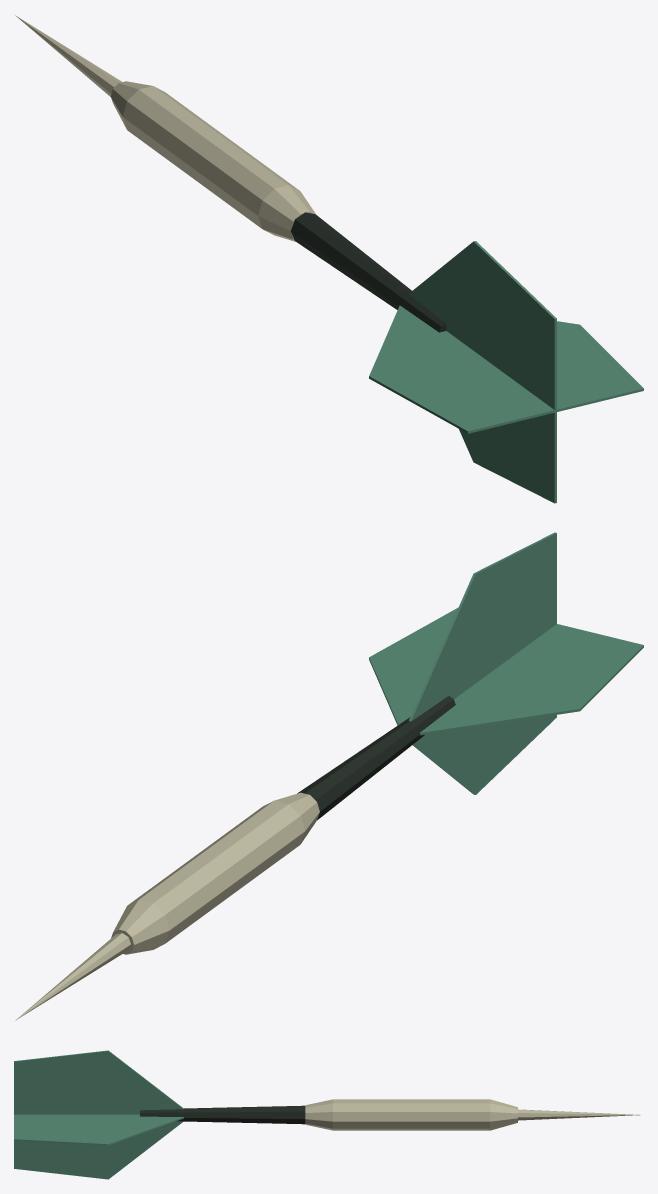
Rendered from Dart.fbx.
The picture shows the model from 3 angles, top to bottom: view 1: azimuth 30°, elevation 25°; view 2: azimuth 150°, elevation 25°; view 3: azimuth 270°, elevation 25°; orthographic projection. The views are drawn at different scales.
Parts seen in each view (by area): view 1: Dart_Flights, Dart_Barrel, Dart_Shaft, Dart_Tip; view 2: Dart_Flights, Dart_Barrel, Dart_Shaft, Dart_Tip; view 3: Dart_Flights, Dart_Barrel, Dart_Shaft, Dart_Tip.
Part boxes in pixels (x1,y1,x2,y2): Dart_Flights: (369, 241, 643, 503); Dart_Barrel: (110, 81, 316, 241); Dart_Shaft: (290, 212, 446, 332); Dart_Tip: (15, 15, 121, 96); Dart_Flights: (369, 532, 643, 794); Dart_Barrel: (111, 792, 319, 954); Dart_Shaft: (297, 696, 455, 820); Dart_Tip: (15, 933, 130, 1020); Dart_Flights: (14, 1050, 183, 1179); Dart_Barrel: (305, 1099, 517, 1130); Dart_Shaft: (140, 1105, 305, 1124); Dart_Tip: (518, 1109, 639, 1120).
Size of the model in its own units: 0.036 by 0.036 by 0.16.
Materials: 3 (3 with a texture image).
